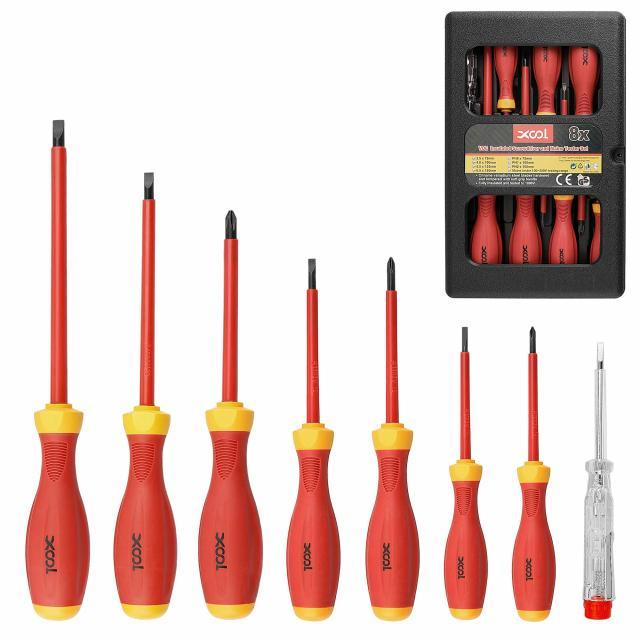screwdriver: (22, 111, 92, 627), (110, 147, 180, 622), (194, 207, 266, 622), (282, 246, 344, 623), (366, 254, 418, 624), (443, 320, 490, 620), (511, 325, 557, 622), (582, 337, 617, 622)
